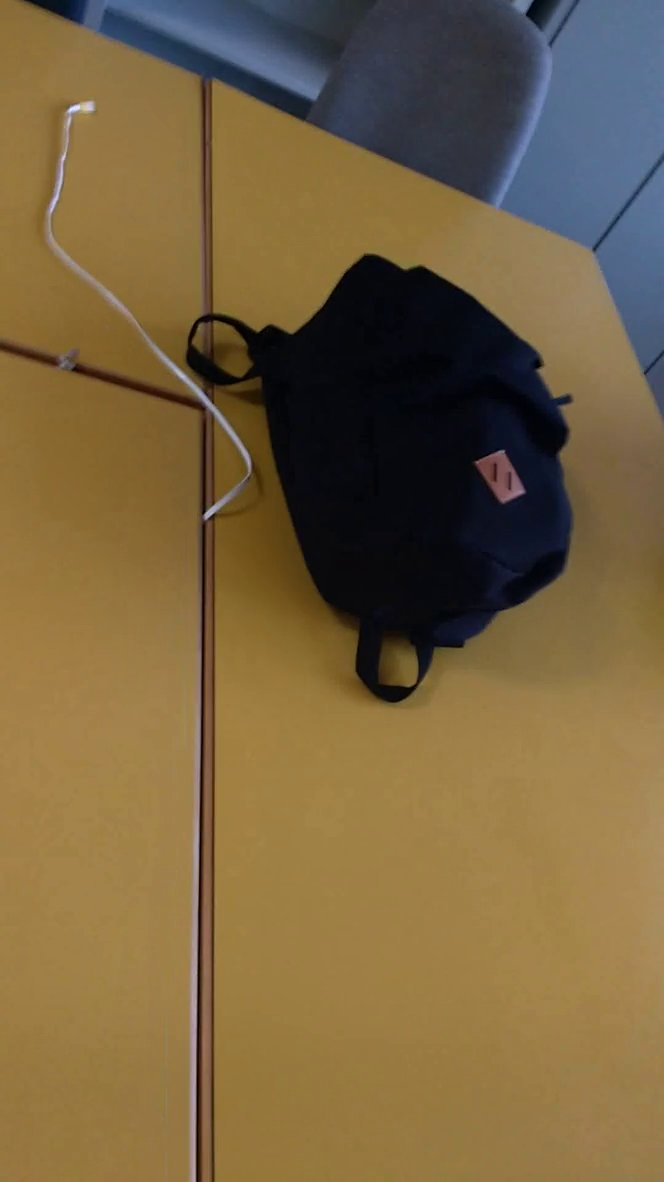bag: (170, 237, 587, 719)
chair: (303, 1, 563, 239)
